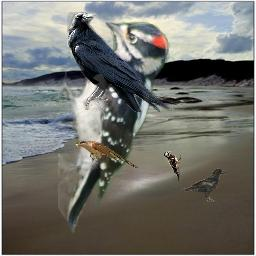Crow: (67, 12, 172, 112), (181, 168, 225, 202)
Cuckoo: (74, 140, 138, 168)
Woodpecker: (58, 15, 171, 233), (164, 151, 181, 181)
